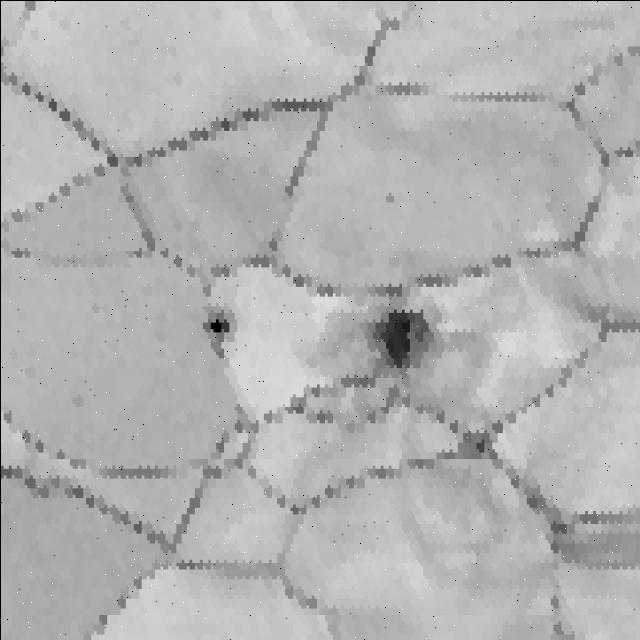good_void: (347, 285, 460, 394), (198, 299, 239, 359), (381, 182, 401, 214)
